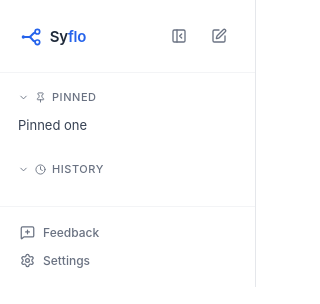
collapsing the sections the system owns › closes the pinned section too, and the pin icon is back on its heading
expect the icon with class "lucide-pin" is shown: met, box [35, 92, 46, 103]
Step 1. Click the button with test id "pinned-group-label" → (128,95), box [8, 81, 247, 110]
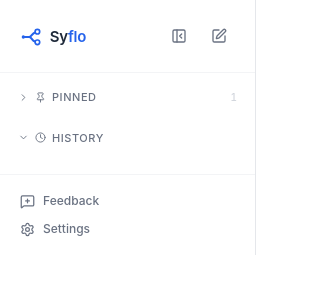
expect the text "Pinned one" is gone: met
